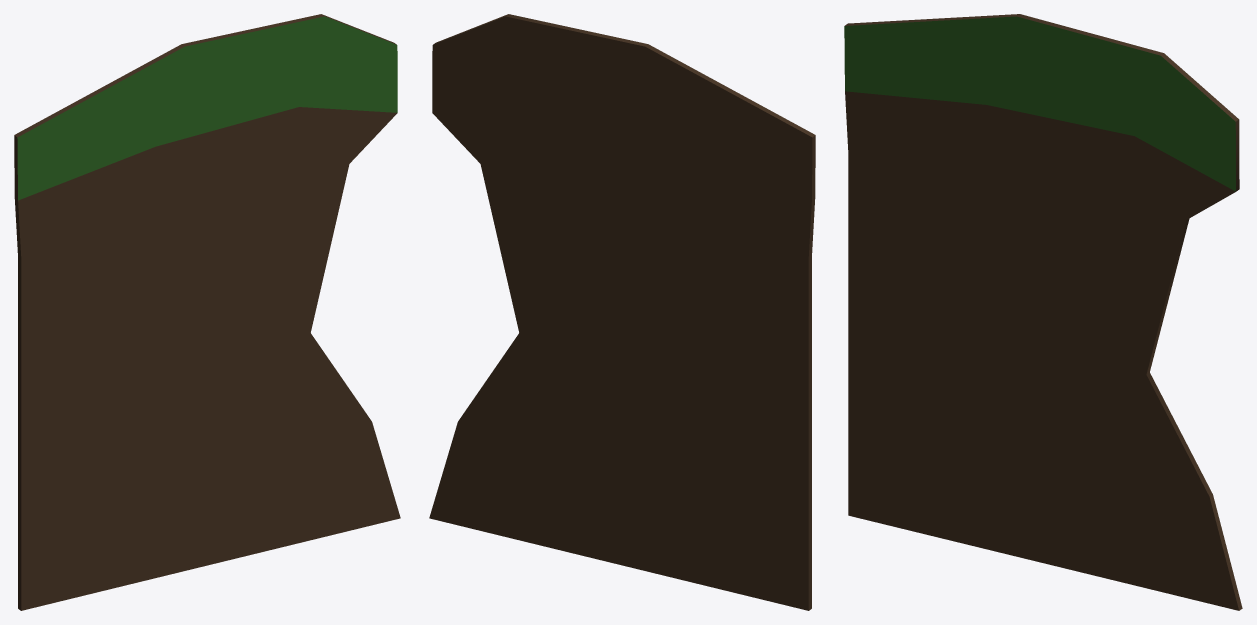
The model's file is ProtoCliff1.fbx.
3 renders of one model, left to right at view 1: azimuth 30°, elevation 25°; view 2: azimuth 150°, elevation 25°; view 3: azimuth 330°, elevation 25°, orthographic. The views are drawn at different scales.
Parts seen in each view (by area): view 1: Cliff; view 2: Cliff; view 3: Cliff.
Part boxes in pixels (x1,y1,x2,y2): Cliff: (14, 14, 400, 610); Cliff: (429, 14, 815, 610); Cliff: (844, 14, 1242, 610).
Size of the model in its own units: 161 by 211 by 2.4.
